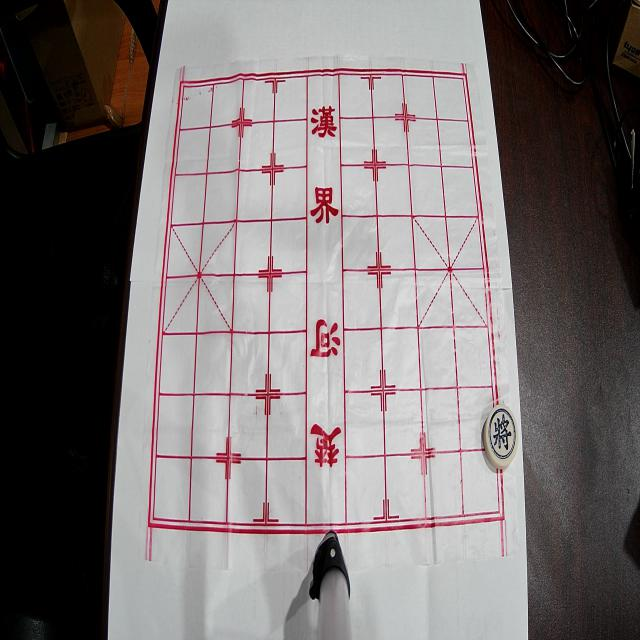black-general: (484, 404, 518, 469)
